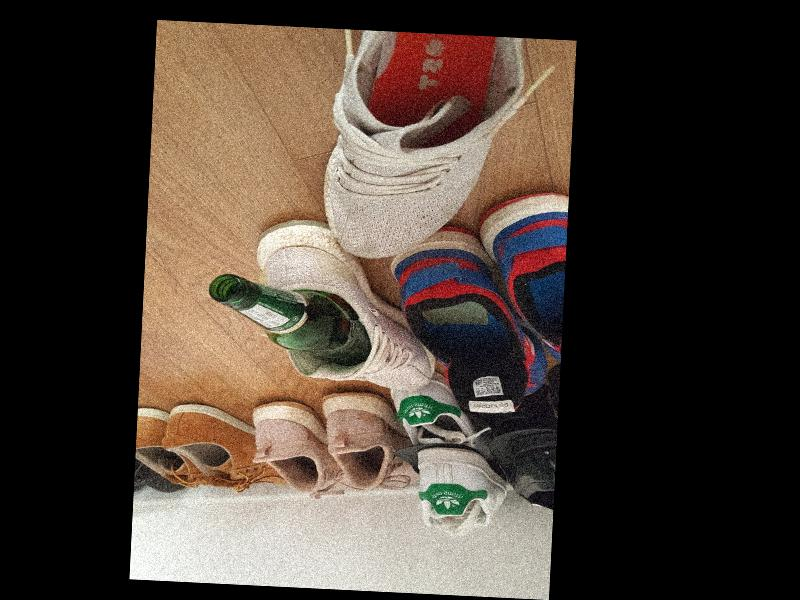Beer: (205, 273, 375, 369)
